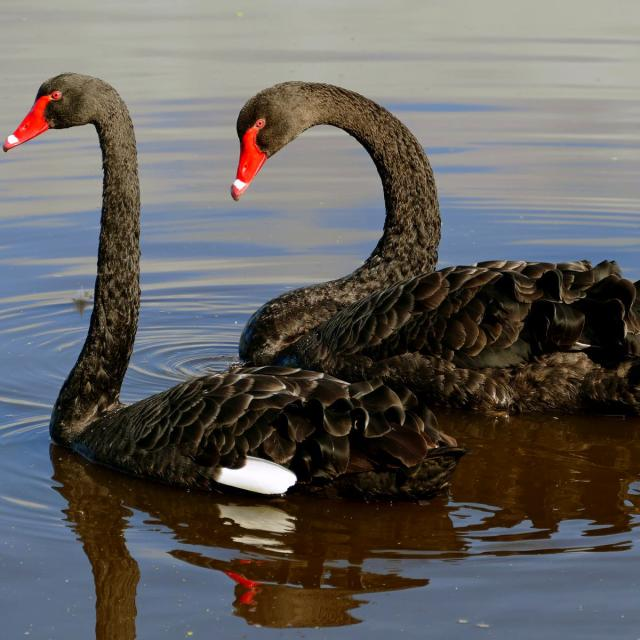swan: (3, 73, 466, 502), (231, 82, 639, 414)
